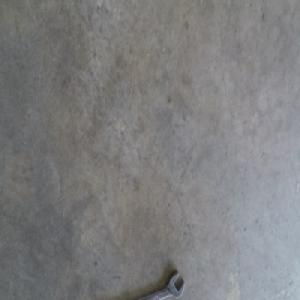Wrench: (141, 270, 186, 299)
